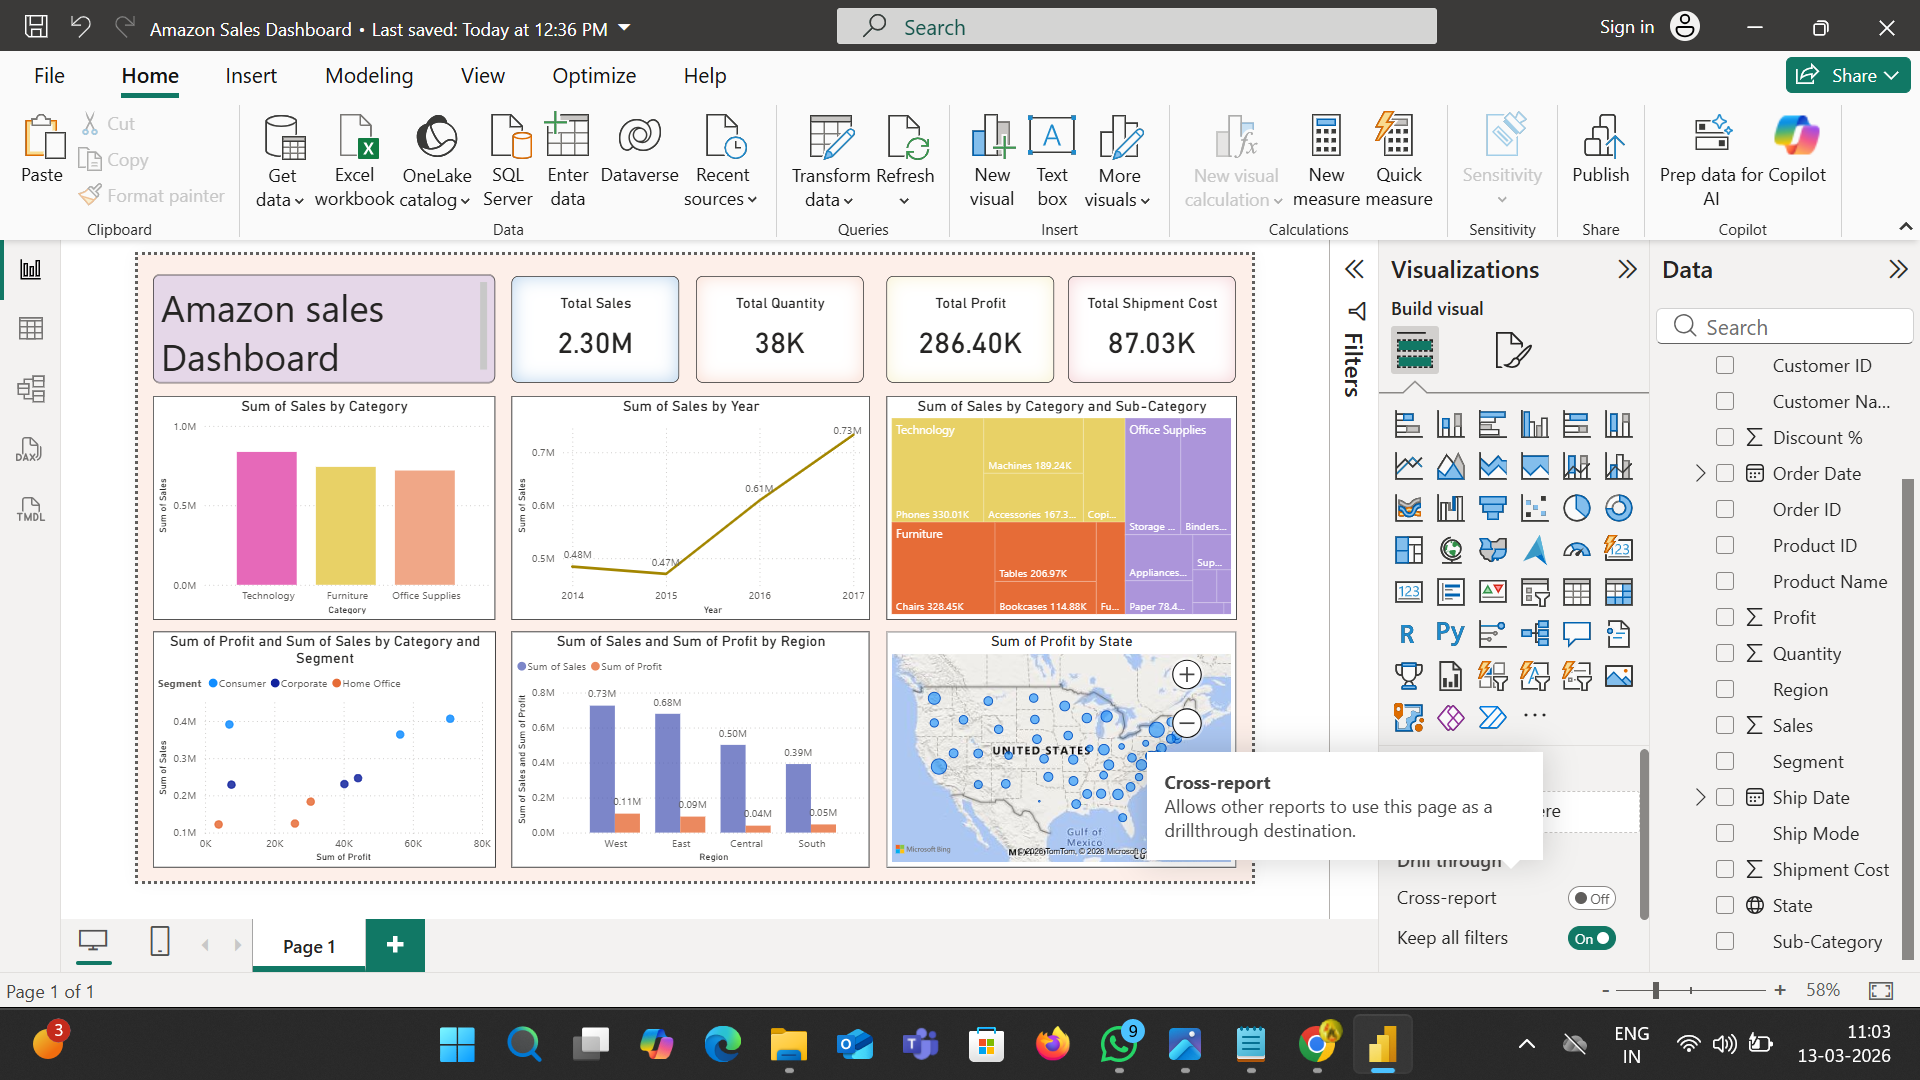

This screenshot's page, from the dashboard's own definition file:
{"tool":"powerbi","page":{"name":"Page 1","canvas":[1280,720],"ordinal":0},"visuals":[{"type":"columnChart","fields":{"Y":["Sum(Orders.Sales)"],"Category":["Orders.Category"]},"box":[17,162.5,393.1,257],"z":0},{"type":"textbox","box":[17,22.7,393.1,124.7],"z":3},{"type":"lineChart","fields":{"Y":["Sum(Orders.Sales)"],"Category":["Orders.Order Date.Variation.Date Hierarchy.Year"]},"box":[429,162.5,412,257],"z":4},{"type":"card","title":"Total Sales","fields":{"Values":["Sum(Orders.Sales)"]},"box":[429,23.3,192.8,122.8],"z":5},{"type":"card","title":"Total Quantity","fields":{"Values":["Sum(Orders.Quantity)"]},"box":[640.6,24.6,192.8,122.8],"z":6},{"type":"card","title":"Total Profit","fields":{"Values":["Sum(Orders.Profit)"]},"box":[859.8,23.3,192.8,122.8],"z":7},{"type":"card","title":"Total Shipment Cost","fields":{"Values":["Sum(Orders.Shipment Cost)"]},"box":[1069.6,24.6,192.8,122.8],"z":8},{"type":"treemap","fields":{"Group":["Orders.Category"],"Values":["Sum(Orders.Sales)"],"Details":["Orders.Sub-Category"]},"box":[859.8,162.5,402.5,257],"z":9},{"type":"clusteredColumnChart","fields":{"Category":["Orders.Region"],"Y":["Sum(Orders.Sales)","Sum(Orders.Profit)"]},"box":[428.8,432.7,411.5,271.2],"z":12},{"type":"scatterChart","fields":{"X":["Sum(Orders.Profit)"],"Y":["Sum(Orders.Sales)"],"Category":["Orders.Category"],"Series":["Orders.Segment"]},"box":[17.3,432.7,394.2,271.2],"z":13},{"type":"map","fields":{"Size":["Sum(Orders.Profit)"],"Category":["Orders.State"]},"box":[859.6,432.7,401.9,271.2],"z":14}]}

Visuals, with their boxes on the page's 1280x720 design canvas (x1, y1, x2, y2). These are canvas units, not pixel positions in the 1920x1080 screenshot, which may show the page scaled, cropped or inside an application window:
columnChart - Sum(Orders.Sales) x Orders.Category: 17:162:410:420
textbox: 17:23:410:147
lineChart - Sum(Orders.Sales) x Orders.Order Date.Variation.Date Hierarchy.Year: 429:162:841:420
"Total Sales" card: 429:23:622:146
"Total Quantity" card: 641:25:833:147
"Total Profit" card: 860:23:1053:146
"Total Shipment Cost" card: 1070:25:1262:147
treemap - Orders.Category x Sum(Orders.Sales): 860:162:1262:420
clusteredColumnChart - Orders.Region x Sum(Orders.Sales): 429:433:840:704
scatterChart - Sum(Orders.Profit) x Sum(Orders.Sales): 17:433:412:704
map - Sum(Orders.Profit) x Orders.State: 860:433:1262:704
